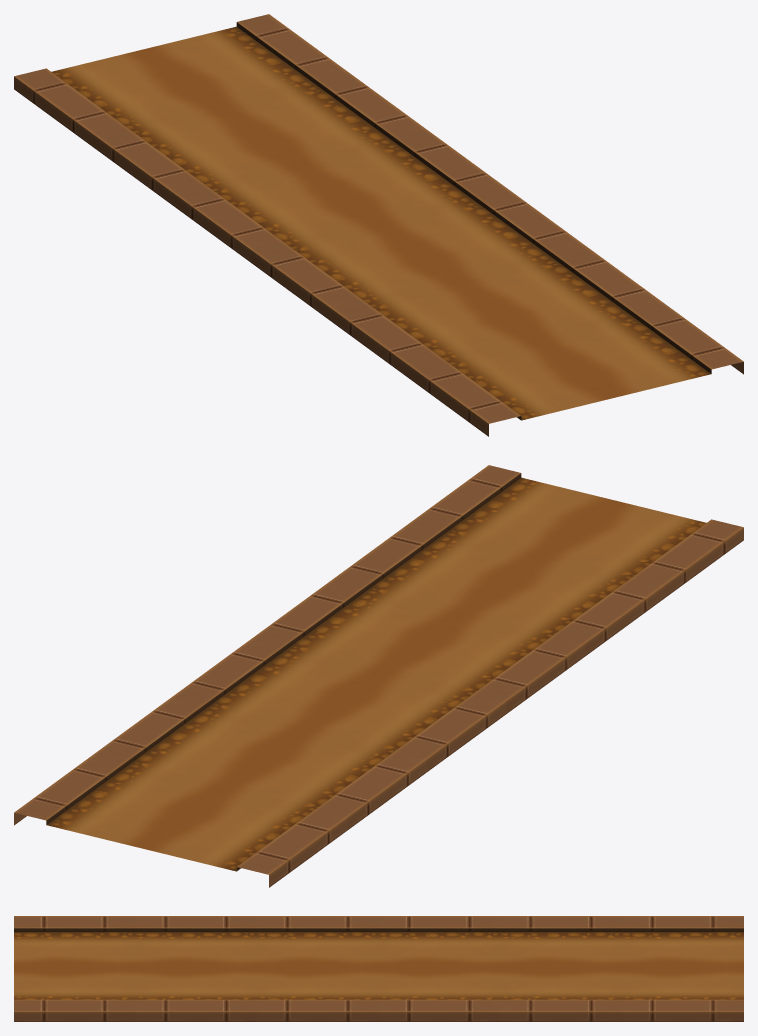
The model's file is Long_Road_Piece.FBX.
3 views of the same model, one above another, from view 1: azimuth 30°, elevation 25°; view 2: azimuth 150°, elevation 25°; view 3: azimuth 270°, elevation 25° (orthographic). The views are drawn at different scales.
Visible parts, largest first — view 1: Object347; view 2: Object347; view 3: Object347.
Boxes of the visible parts, box(x1,y1,x2,y2) form: Object347: box(14, 14, 743, 436); Object347: box(14, 465, 743, 887); Object347: box(14, 916, 743, 1021).
Size of the model in its own units: 163 by 7.95 by 526.
